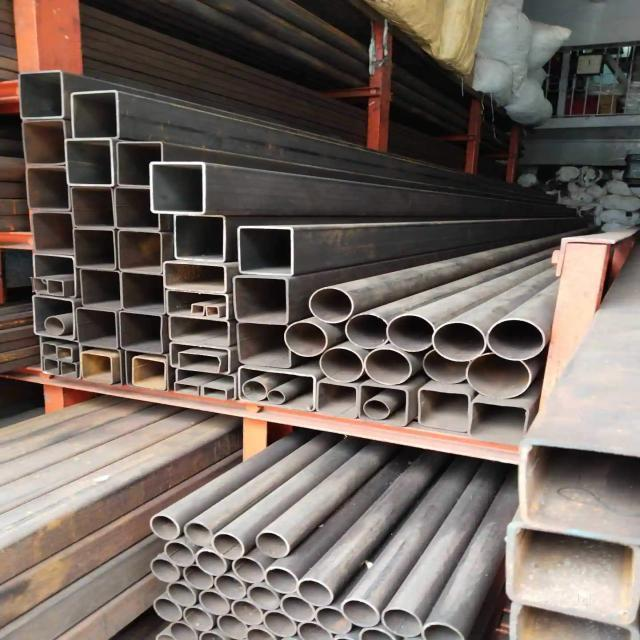pipe: (508, 526, 638, 623), (525, 442, 639, 544), (238, 367, 315, 411), (466, 353, 531, 399), (152, 163, 204, 214), (239, 228, 293, 276), (469, 402, 528, 445), (487, 318, 545, 360), (236, 325, 290, 368), (65, 138, 113, 186), (236, 278, 287, 323), (419, 389, 470, 432), (72, 91, 118, 138), (177, 216, 224, 261), (19, 71, 63, 118), (433, 322, 486, 361), (117, 142, 163, 186), (359, 385, 408, 426), (22, 120, 65, 165), (173, 369, 235, 400), (26, 167, 70, 210), (31, 212, 73, 257), (115, 188, 159, 230), (164, 263, 227, 292), (120, 313, 163, 355), (387, 315, 435, 352), (169, 317, 228, 347), (171, 344, 230, 374), (34, 298, 75, 341), (166, 291, 228, 319), (364, 349, 412, 385), (33, 256, 75, 297), (120, 232, 161, 273), (123, 273, 165, 313), (41, 337, 81, 379), (73, 188, 114, 228), (309, 287, 354, 323), (76, 230, 115, 270), (78, 308, 117, 348), (82, 272, 120, 311), (285, 322, 328, 356), (320, 348, 363, 382), (423, 351, 467, 384), (317, 382, 357, 418), (346, 314, 387, 348), (382, 608, 421, 638), (133, 357, 166, 389), (342, 599, 379, 627), (256, 531, 291, 558), (298, 580, 333, 606), (83, 353, 113, 383), (247, 584, 280, 611), (281, 596, 315, 622), (316, 607, 350, 633), (265, 567, 298, 593), (179, 352, 221, 372), (233, 557, 265, 583), (263, 611, 296, 636), (164, 541, 195, 567), (231, 600, 263, 625), (213, 533, 243, 559), (196, 550, 226, 576), (215, 575, 246, 600), (150, 515, 180, 540), (183, 565, 213, 590), (183, 606, 213, 631), (199, 591, 229, 616), (218, 614, 247, 639), (166, 583, 196, 607), (422, 623, 463, 640), (183, 522, 212, 546), (150, 559, 179, 583), (153, 598, 182, 622), (298, 622, 332, 640), (363, 400, 390, 420), (169, 622, 196, 640), (242, 381, 266, 401), (45, 317, 64, 336), (175, 383, 199, 396), (203, 387, 227, 399), (267, 390, 285, 404), (48, 280, 63, 296), (61, 363, 76, 378), (34, 278, 48, 294), (43, 344, 57, 359), (58, 346, 72, 361), (45, 358, 58, 374), (191, 305, 204, 316), (207, 307, 219, 317)
